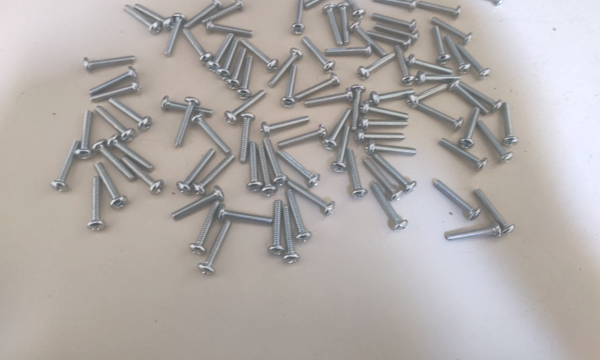longscrew: (432, 172, 480, 220), (175, 144, 216, 196), (88, 142, 137, 183), (117, 157, 166, 198), (170, 184, 224, 221), (196, 149, 238, 196), (414, 96, 465, 133), (190, 196, 220, 258), (369, 183, 406, 233), (273, 147, 319, 187), (187, 115, 234, 154), (200, 218, 231, 277), (46, 140, 79, 194), (475, 190, 514, 234), (474, 119, 512, 164), (287, 183, 337, 217), (439, 136, 487, 171), (370, 155, 416, 190), (90, 166, 129, 207), (361, 159, 402, 198), (105, 138, 156, 169), (217, 201, 275, 228), (283, 192, 313, 243), (460, 76, 501, 112), (163, 91, 217, 118), (226, 89, 267, 124), (90, 108, 135, 139), (109, 98, 154, 129), (452, 80, 491, 114), (355, 47, 396, 79), (90, 80, 140, 106), (323, 108, 353, 151), (83, 176, 106, 232), (458, 42, 491, 81), (240, 41, 280, 73), (265, 137, 291, 186), (182, 28, 216, 65), (269, 49, 302, 87), (298, 36, 336, 69), (90, 66, 136, 93), (430, 10, 470, 41), (176, 95, 198, 151), (407, 49, 455, 74), (351, 21, 385, 56), (164, 10, 187, 61), (266, 198, 285, 259), (280, 204, 299, 265), (443, 222, 504, 241), (278, 124, 328, 147), (124, 6, 163, 35), (135, 3, 174, 32), (205, 15, 256, 37), (344, 149, 365, 201), (184, 0, 222, 28), (296, 74, 338, 99), (367, 138, 419, 158), (375, 18, 420, 41), (234, 56, 258, 99), (363, 98, 412, 119), (443, 35, 470, 73), (459, 103, 481, 149), (202, 0, 244, 24), (408, 83, 450, 107), (262, 115, 312, 135), (213, 41, 240, 78), (372, 8, 415, 31), (209, 34, 236, 70), (222, 52, 249, 88), (326, 40, 377, 59), (332, 122, 350, 175), (76, 112, 95, 162), (366, 27, 413, 47), (258, 139, 275, 194), (394, 41, 414, 86), (285, 0, 309, 37), (301, 91, 359, 106), (280, 63, 298, 110), (85, 55, 138, 70), (417, 0, 461, 18), (501, 102, 519, 146), (322, 5, 342, 44), (349, 84, 365, 131), (432, 27, 452, 64), (357, 128, 410, 141), (418, 68, 465, 82), (248, 142, 260, 193), (362, 116, 409, 129), (337, 4, 352, 44), (241, 113, 252, 164), (370, 89, 415, 100), (371, 0, 419, 10), (338, 0, 366, 17), (305, 0, 348, 8), (460, 0, 507, 6)
